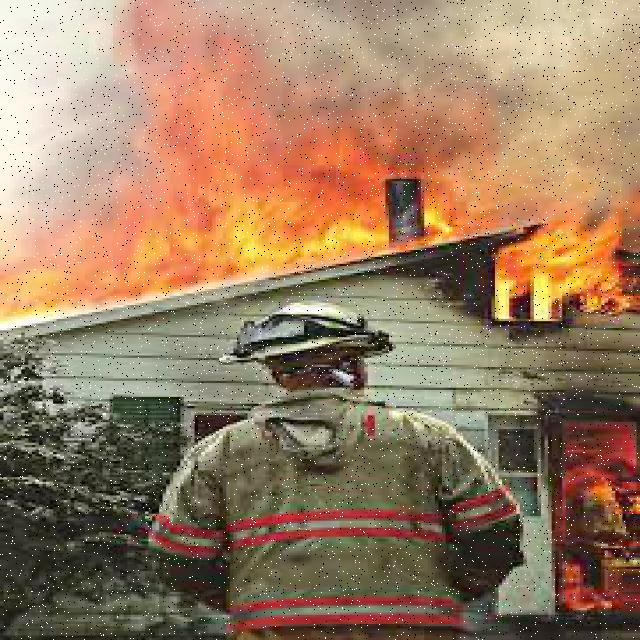fire: (34, 168, 432, 264), (500, 206, 635, 328), (571, 427, 640, 615)
smoke: (314, 8, 640, 111)
